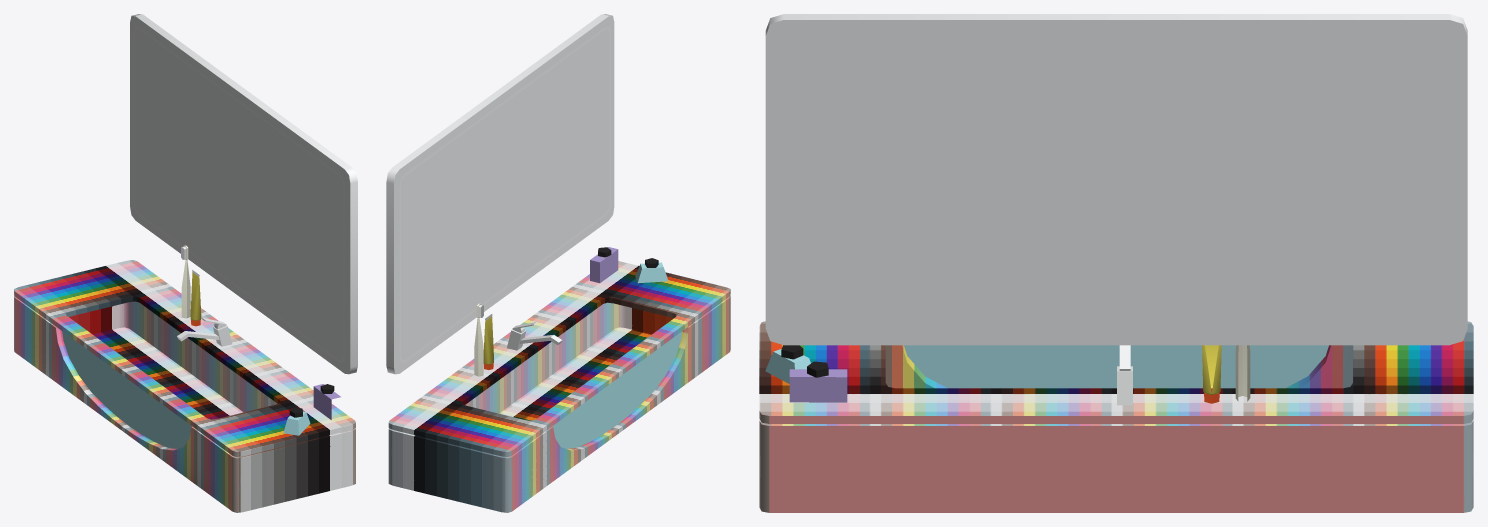
The model's file is M_xishutai01.FBX.
3 views of the same model, side by side, from view 1: azimuth 30°, elevation 25°; view 2: azimuth 150°, elevation 25°; view 3: azimuth 270°, elevation 25° (orthographic). The views are drawn at different scales.
Parts seen in each view (by area): view 1: M_xishutai01_05, M_xishutai01_01, M_xishutai01_06, M_xishutai01_02, M_xishutai01_04, M_xishutai01_03; view 2: M_xishutai01_05, M_xishutai01_01, M_xishutai01_06, M_xishutai01_02, M_xishutai01_04, M_xishutai01_03; view 3: M_xishutai01_06, M_xishutai01_01, M_xishutai01_02, M_xishutai01_04, M_xishutai01_03.
Part boxes in pixels (x1,y1,x2,y2): M_xishutai01_05: (130,16,350,374); M_xishutai01_01: (14,260,355,512); M_xishutai01_06: (131,14,357,374); M_xishutai01_02: (62,331,191,448); M_xishutai01_04: (181,245,340,435); M_xishutai01_03: (177,318,232,346); M_xishutai01_05: (394,16,614,374); M_xishutai01_01: (388,261,730,512); M_xishutai01_06: (386,14,612,374); M_xishutai01_02: (552,331,682,448); M_xishutai01_04: (474,247,668,376); M_xishutai01_03: (507,322,562,350); M_xishutai01_06: (765,14,1467,345); M_xishutai01_01: (759,321,1473,512); M_xishutai01_02: (904,345,1328,388); M_xishutai01_04: (765,345,1250,403); M_xishutai01_03: (1117,345,1132,405).
Size of the model in its own units: 1 by 2.4 by 3.14.
